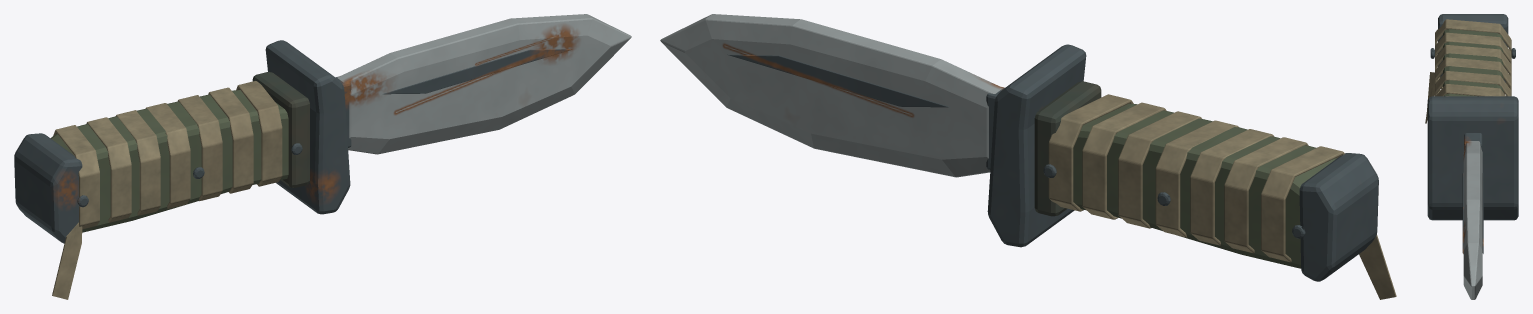
Rendered from knife.glb.
The picture shows the model from 3 angles, left to right: view 1: azimuth 30°, elevation 25°; view 2: azimuth 150°, elevation 25°; view 3: azimuth 270°, elevation 25°; orthographic projection. The views are drawn at different scales.
Visible parts, largest first — view 1: Knife_Blade | broad faceted steel, Knife_Grip | olive core, Knife_Guard | small swept guard, Knife_Pommel | worn end cap, Knife_Grip | front collar, Knife_Grip | cloth binding.06, Knife_Grip | cloth binding.05, Knife_Grip | cloth binding.01, Knife_Grip | cloth binding.02, Knife_Grip | cloth binding.04, Knife_Grip | cloth binding.03, Knife_Grip | cloth binding.00 (+2 smaller); view 2: Knife_Blade | broad faceted steel, Knife_Grip | olive core, Knife_Guard | small swept guard, Knife_Pommel | worn end cap, Knife_Grip | cloth binding.00, Knife_Grip | cloth binding.05, Knife_Grip | cloth binding.01, Knife_Grip | cloth binding.04, Knife_Grip | cloth binding.06, Knife_Grip | cloth binding.02, Knife_Grip | front collar, Knife_Grip | cloth binding.03 (+2 smaller); view 3: Knife_Guard | small swept guard, Knife_Blade | broad faceted steel, Knife_Grip | olive core, Knife_Grip | cloth binding.00, Knife_Grip | cloth binding.01, Knife_Grip | cloth binding.04, Knife_Grip | cloth binding.03, Knife_Grip | cloth binding.02, Knife_Pommel | worn end cap, Knife_Grip | cloth binding.05, Knife_Grip | worn binding tail, Knife_Blade | heel (+2 smaller).
Boxes of the visible parts, x1,y1,x2,y2 form: Knife_Blade | broad faceted steel: (337,14,631,154); Knife_Grip | olive core: (50,90,288,232); Knife_Guard | small swept guard: (265,40,350,214); Knife_Pommel | worn end cap: (14,133,82,243); Knife_Grip | front collar: (252,72,309,187); Knife_Grip | cloth binding.06: (236,81,282,186); Knife_Grip | cloth binding.05: (208,87,253,193); Knife_Grip | cloth binding.01: (86,117,131,222); Knife_Grip | cloth binding.02: (116,110,160,215); Knife_Grip | cloth binding.04: (177,95,222,201); Knife_Grip | cloth binding.03: (145,103,190,208); Knife_Grip | cloth binding.00: (53,125,99,229); Knife_Blade | broad faceted steel: (660,14,1002,177); Knife_Grip | olive core: (1073,103,1336,268); Knife_Guard | small swept guard: (987,44,1086,247); Knife_Pommel | worn end cap: (1299,153,1378,281); Knife_Grip | cloth binding.00: (1261,146,1344,262); Knife_Grip | cloth binding.05: (1082,102,1166,219); Knife_Grip | cloth binding.01: (1224,137,1308,253); Knife_Grip | cloth binding.04: (1118,111,1201,228); Knife_Grip | cloth binding.06: (1048,94,1133,211); Knife_Grip | cloth binding.02: (1190,129,1273,245); Knife_Grip | front collar: (1034,81,1101,216); Knife_Grip | cloth binding.03: (1155,120,1238,237); Knife_Guard | small swept guard: (1427,96,1518,220); Knife_Blade | broad faceted steel: (1463,141,1482,299); Knife_Grip | olive core: (1443,29,1503,96); Knife_Grip | cloth binding.00: (1435,19,1511,94); Knife_Grip | cloth binding.01: (1435,32,1511,93); Knife_Grip | cloth binding.04: (1435,71,1511,96); Knife_Grip | cloth binding.03: (1435,57,1511,90); Knife_Grip | cloth binding.02: (1435,45,1511,77); Knife_Pommel | worn end cap: (1438,14,1508,82); Knife_Grip | cloth binding.05: (1436,84,1505,96); Knife_Grip | worn binding tail: (1425,72,1440,123); Knife_Blade | heel: (1464,133,1482,150).
Bounding box in the file's own units: 0.3767 × 0.0935 × 0.0585.
Materials: 2 (2 with a texture image).
